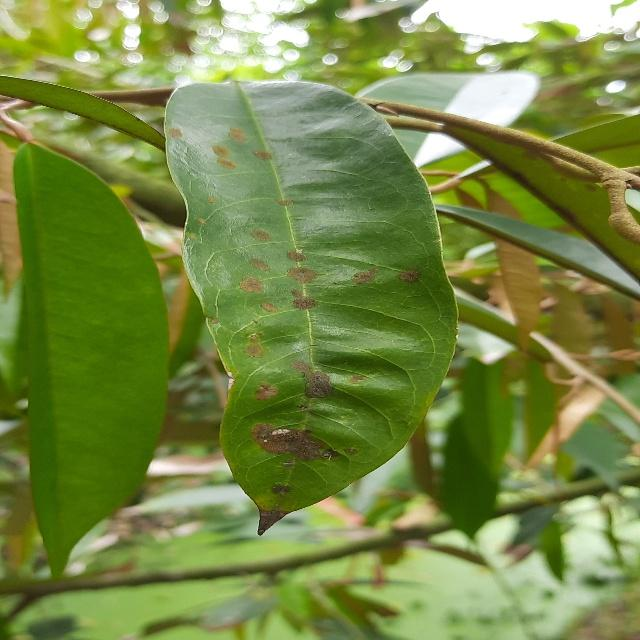Algal Leaf Spot: (158, 69, 469, 544)
